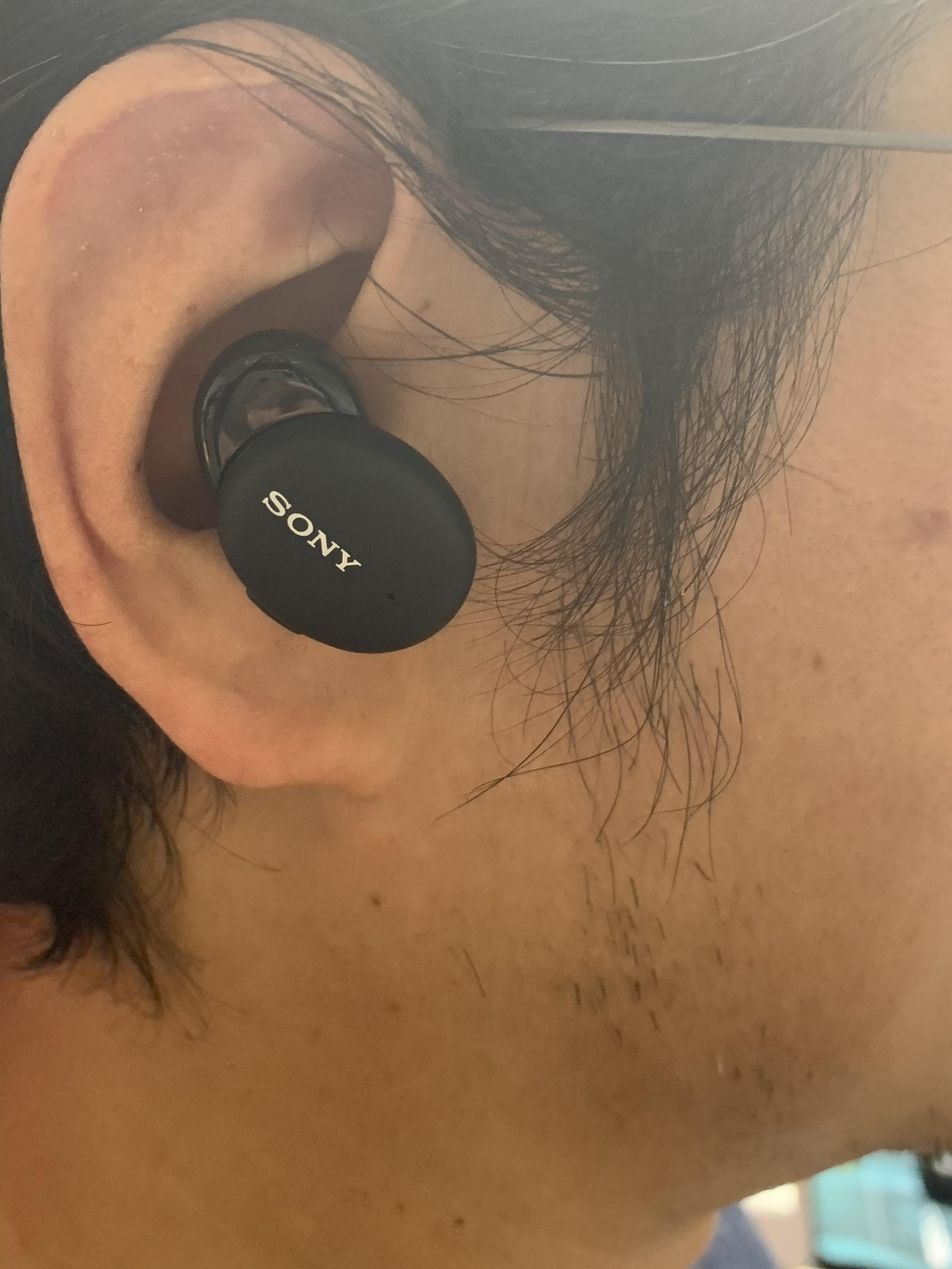earphone: (140, 321, 517, 674)
